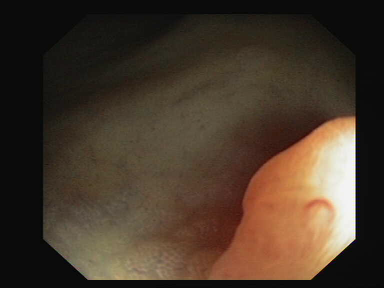polyp: (276, 179, 352, 239)
